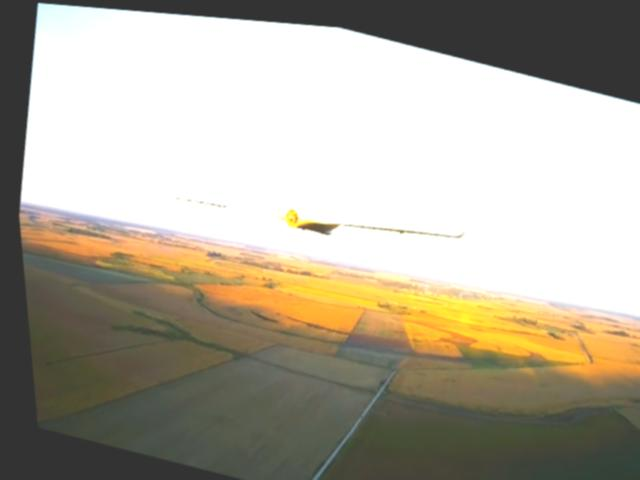plane: (131, 100, 475, 269)
